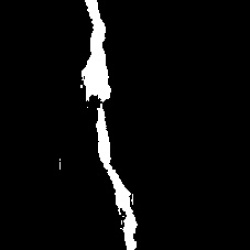crack: (94, 107, 139, 248), (81, 1, 113, 107)
pinhole: (56, 156, 67, 172)
